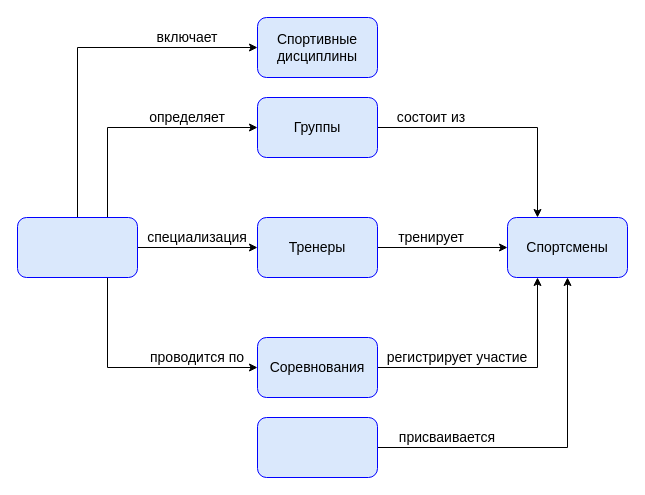
This 645x495 diagram has some shape labels left out. The centre of each missing label's shape, as x and y in pixels:
"Виды спорта" belongs at (x=77, y=247).
"Спортивные разряды" belongs at (x=317, y=447).
